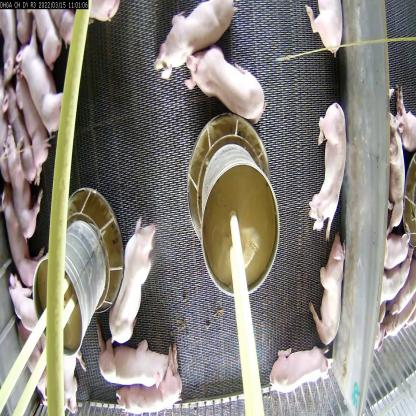Pig: (108, 209, 162, 333), (178, 46, 268, 118), (153, 5, 236, 78), (307, 96, 346, 240), (14, 34, 67, 131), (6, 79, 57, 178), (94, 334, 170, 396), (267, 338, 333, 408), (0, 194, 49, 285), (314, 248, 356, 350), (0, 128, 36, 229), (7, 271, 53, 349), (118, 382, 186, 416)
